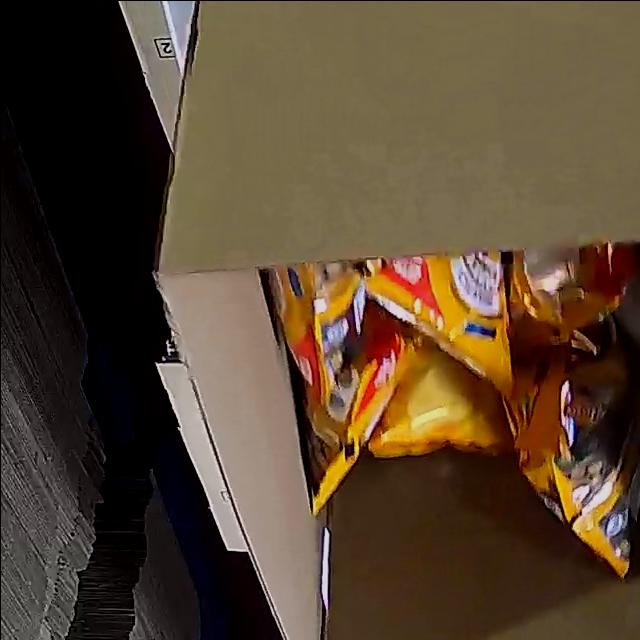cheese: (271, 240, 640, 581)
